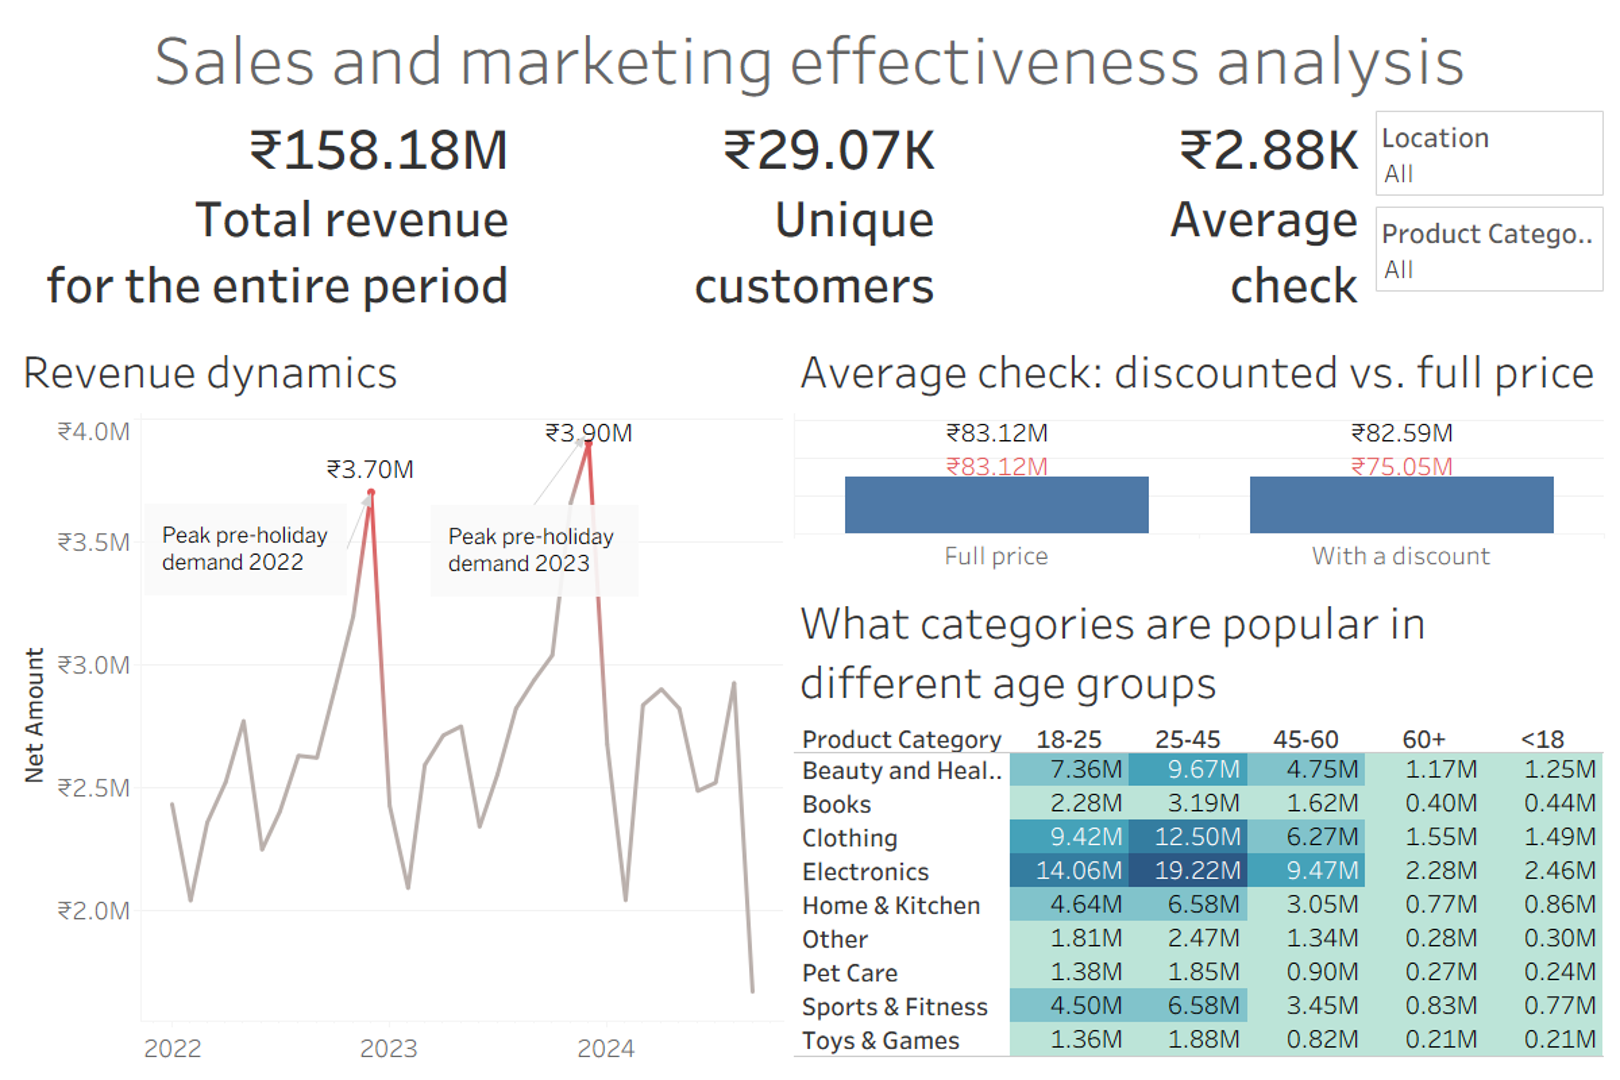

The page's visual inventory and layout, read from the dashboard file:
{"tool":"tableau","page":{"name":"Dashboard 1","canvas":[1200,800],"ordinal":0},"visuals":[{"type":"text","box":[8,8,1184,70]},{"type":"worksheet","title":"KPI","mark":"Text","box":[8,78,378,164]},{"type":"worksheet","title":"Unique customers","mark":"Automatic","box":[386,78,314.5,164]},{"type":"worksheet","title":"Average check","mark":"Automatic","box":[700.5,78,314.5,164]},{"type":"filter","title":"Revenue dynamics","param":"[federated.1xr8pvo1x4hmau0zz82id043epsv].[none:Location:nk]","box":[1015,78,177,81]},{"type":"filter","title":"Revenue dynamics","param":"[federated.1xr8pvo1x4hmau0zz82id043epsv].[none:Product Category:nk]","box":[1015,159,177,81]},{"type":"worksheet","title":"Revenue dynamics","mark":"Line","rows":["Net Amount"],"cols":["Purchase Date"],"box":[8,242,576,550]},{"type":"worksheet","title":"Discount effectiveness","mark":"Bar","rows":["Gross Amount"],"cols":["Discount Availed"],"box":[584,242,607.9,186]},{"type":"worksheet","title":"Categories × age groups","mark":"Square","rows":["Product Category"],"cols":["Age Group"],"box":[584,428,607.9,364]}]}

Visuals, with their boxes in screenshot pixels (x1, y1, x2, y2), scaled from the page's 1200x800 canvas onto the 1620x1080 screenshot:
text: (11, 11, 1609, 105)
"KPI" worksheet (Text marks): (11, 105, 521, 327)
"Unique customers" worksheet: (521, 105, 946, 327)
"Average check" worksheet: (946, 105, 1370, 327)
"Revenue dynamics" filter: (1370, 105, 1609, 215)
"Revenue dynamics" filter: (1370, 215, 1609, 324)
"Revenue dynamics" worksheet (Line marks): (11, 327, 788, 1069)
"Discount effectiveness" worksheet (Bar marks): (788, 327, 1609, 578)
"Categories × age groups" worksheet (Square marks): (788, 578, 1609, 1069)
